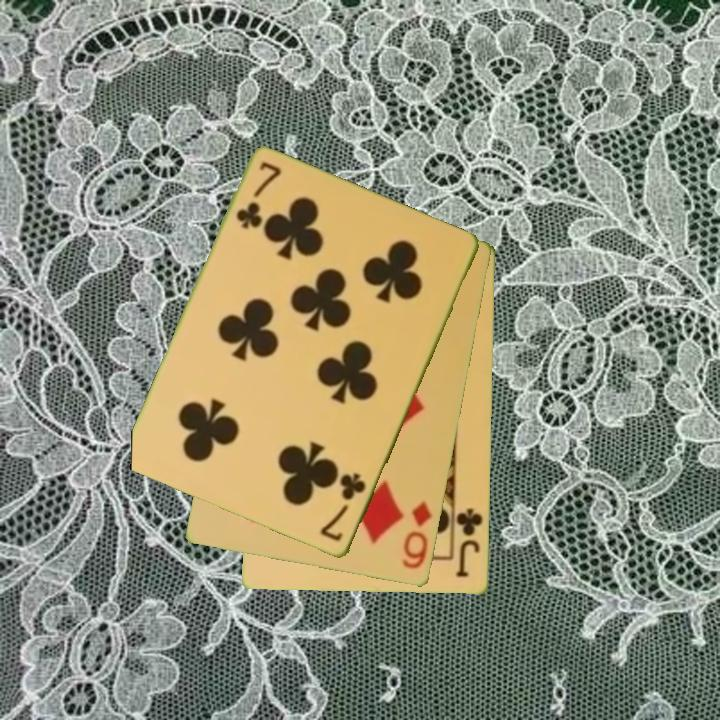6d: (399, 498, 435, 573)
7c: (317, 469, 369, 545), (232, 158, 284, 233)
Jc: (453, 505, 486, 580)
